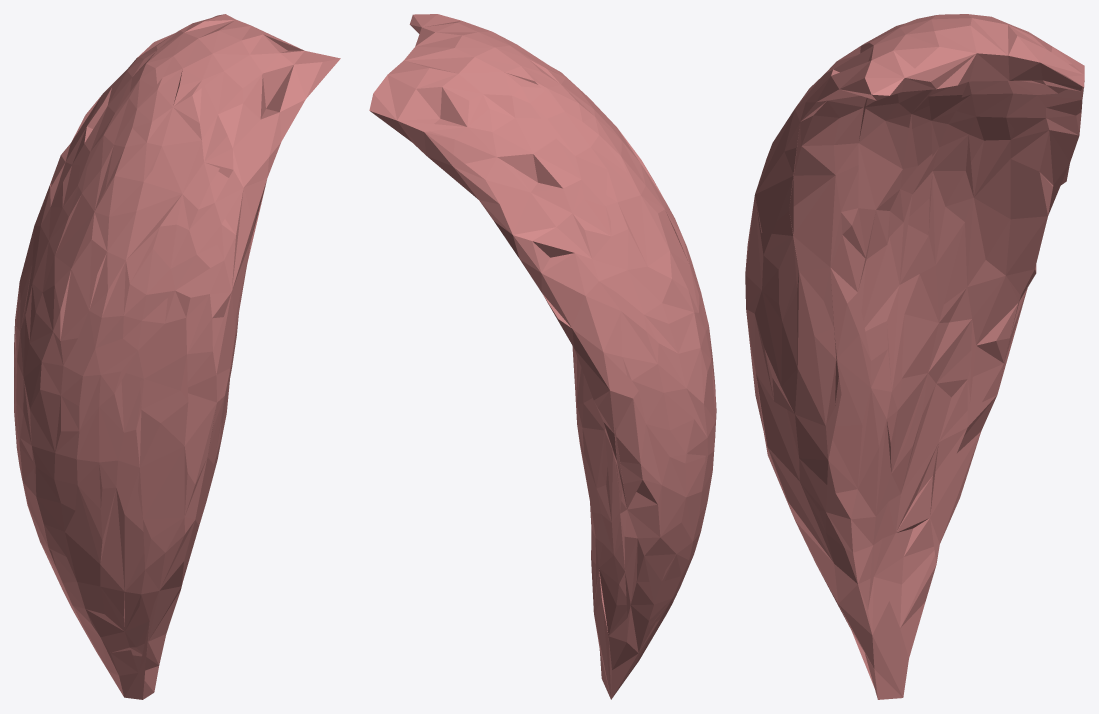
File: Acromial_part_of_deltoid_muscle.r.glb
3 views of the same model, side by side, from view 1: azimuth 30°, elevation 25°; view 2: azimuth 150°, elevation 25°; view 3: azimuth 270°, elevation 25° (orthographic). The views are drawn at different scales.
Parts seen in each view (by area): view 1: Acromial_part_of_deltoid_muscle.r; view 2: Acromial_part_of_deltoid_muscle.r; view 3: Acromial_part_of_deltoid_muscle.r.
Part boxes in pixels (left/top/right/bottom): Acromial_part_of_deltoid_muscle.r: left=14, top=14, right=340, bottom=699; Acromial_part_of_deltoid_muscle.r: left=369, top=14, right=716, bottom=699; Acromial_part_of_deltoid_muscle.r: left=745, top=14, right=1084, bottom=699.
Bounding box in the file's own units: 0.0729 × 0.1451 × 0.06.
